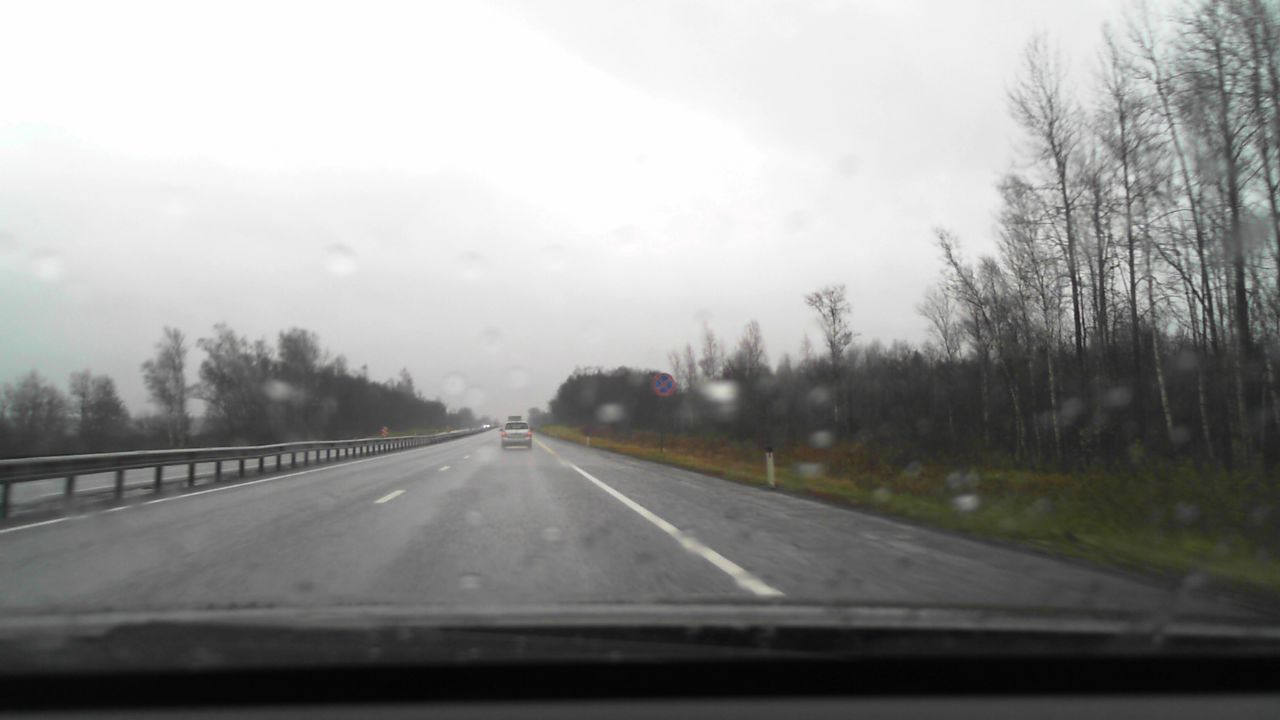No Parking: (651, 372, 675, 396)
